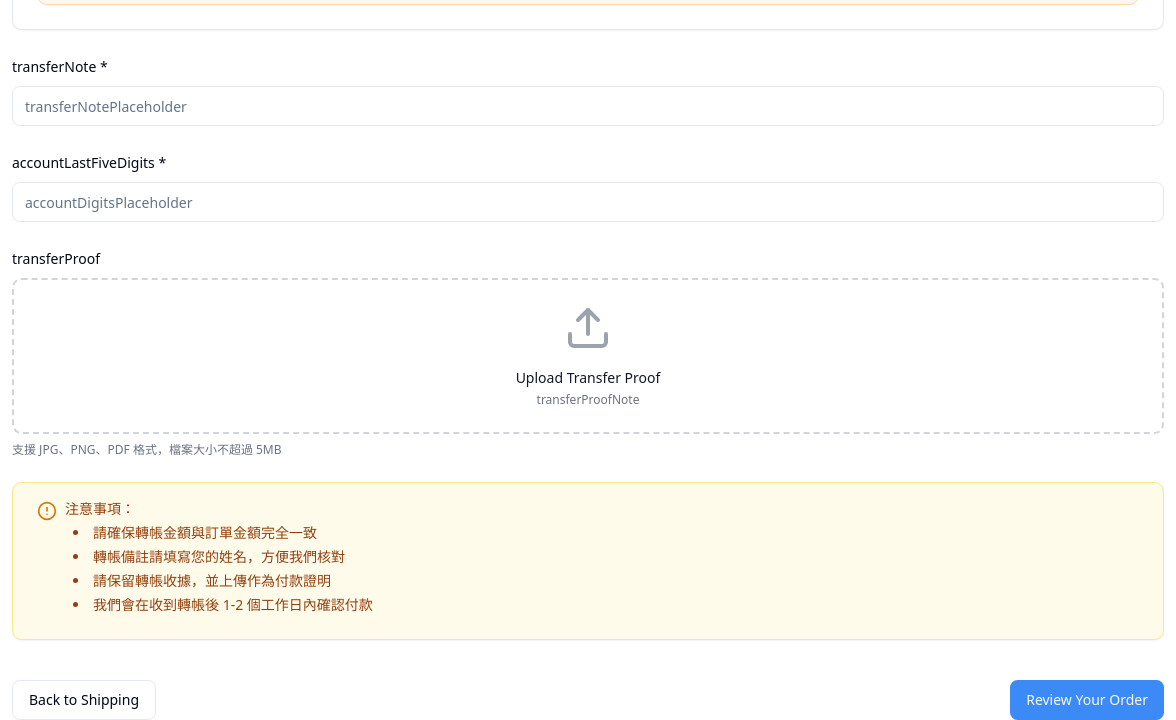
PaymentForm › validates required fields
(page scrolled)
// 嘗試提交空表單 (使用英文按鈕文字)
Step 1. Click the button "Review Your Order" → (1087, 700), box [1010, 680, 1164, 719]
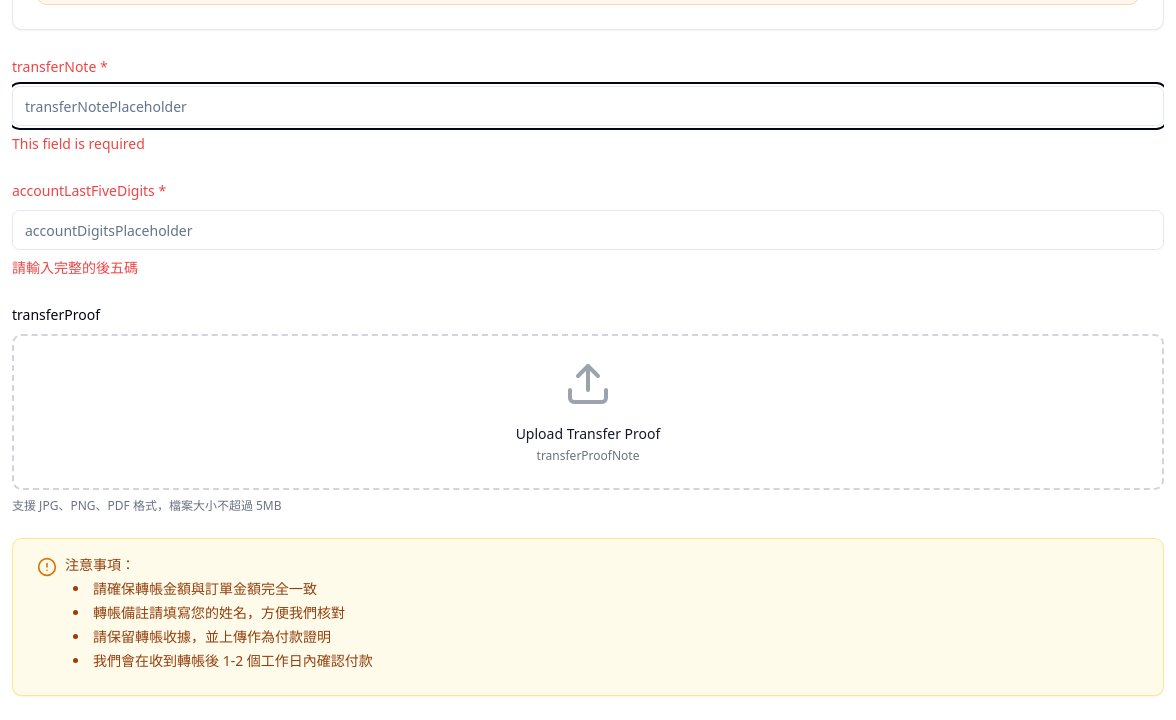
Check: the text "This field is required" is shown, box [12, 134, 145, 153]
